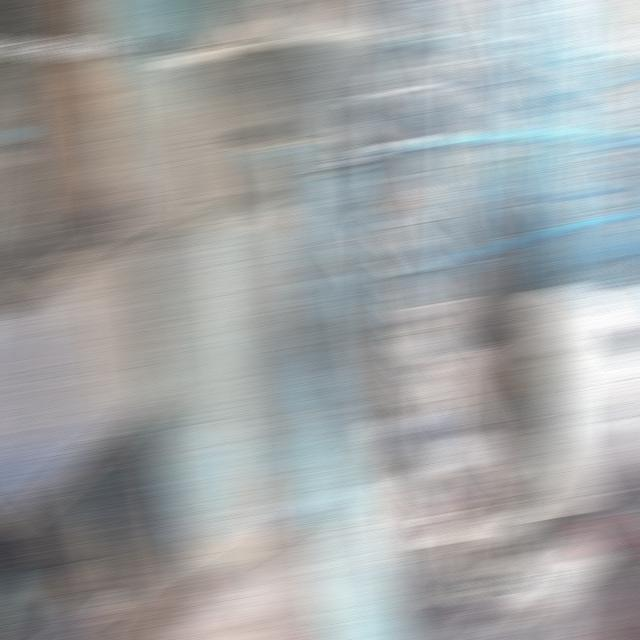cement_mixer_truck: (411, 287, 640, 638)
swing_chute: (234, 122, 352, 350)
